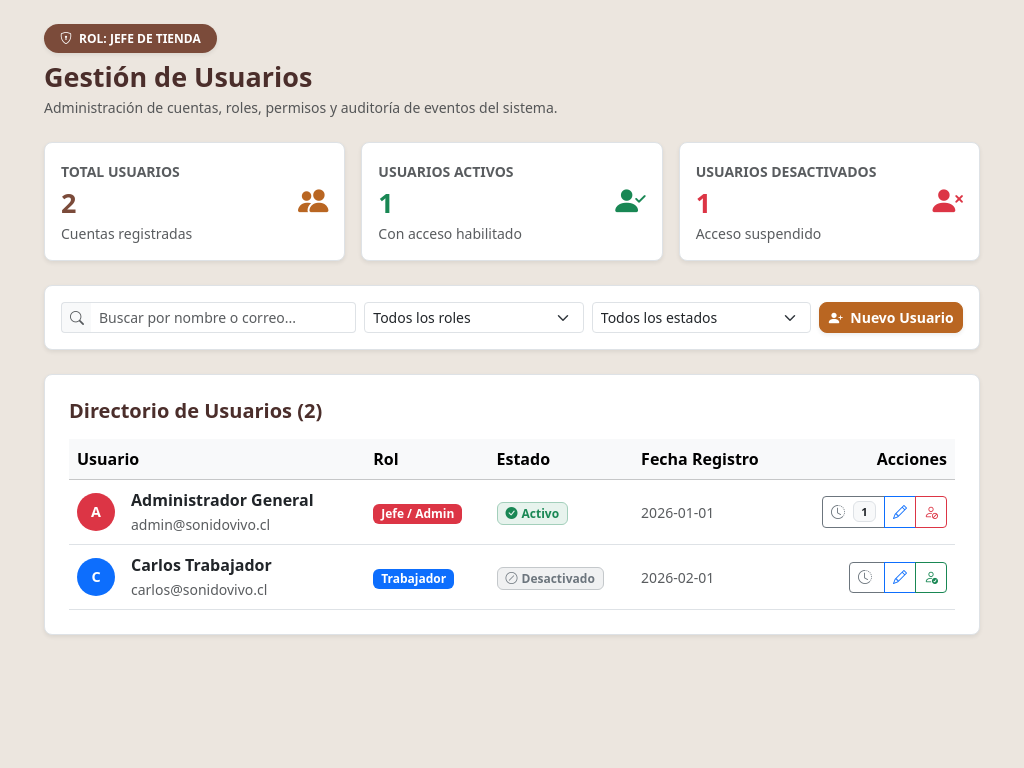
UsuariosJefe - Pruebas Unitarias › 3. Abre el modal de historial y muestra los eventos registrados
Click the button titled "Ver historial de actividad": (854, 512) [822, 496, 885, 528]
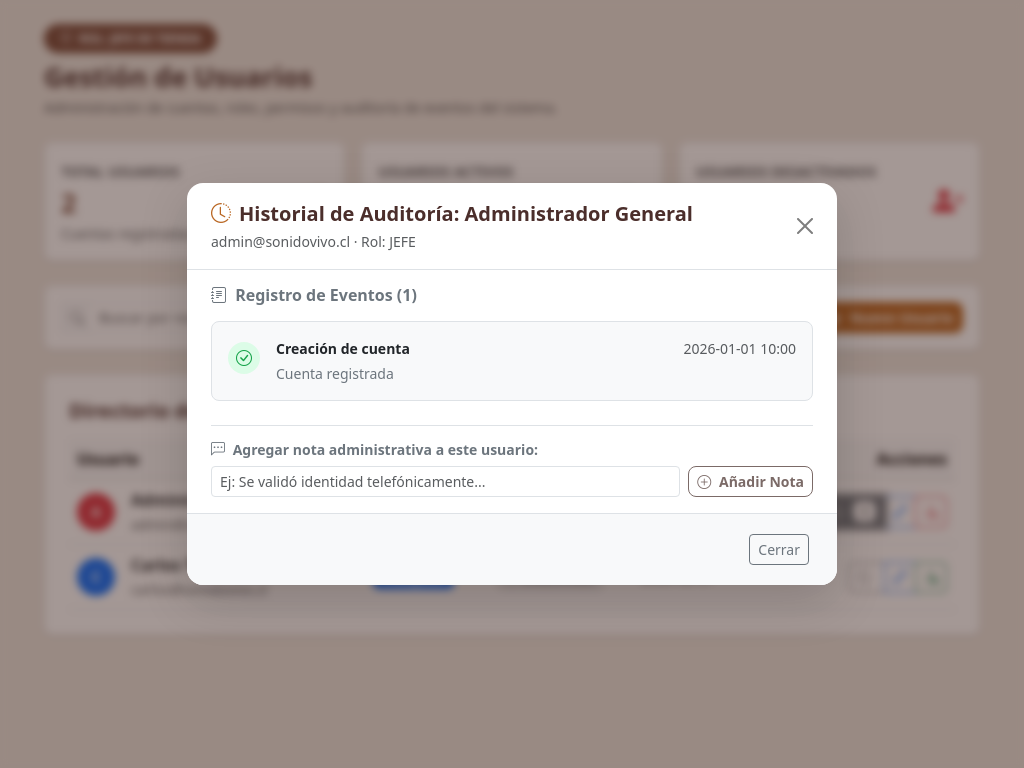
Check: the heading "Historial de Auditoría: Administrador General" is shown, box [211, 198, 693, 228]
Check: the text "Creación de cuenta" is shown, box [276, 338, 410, 359]
